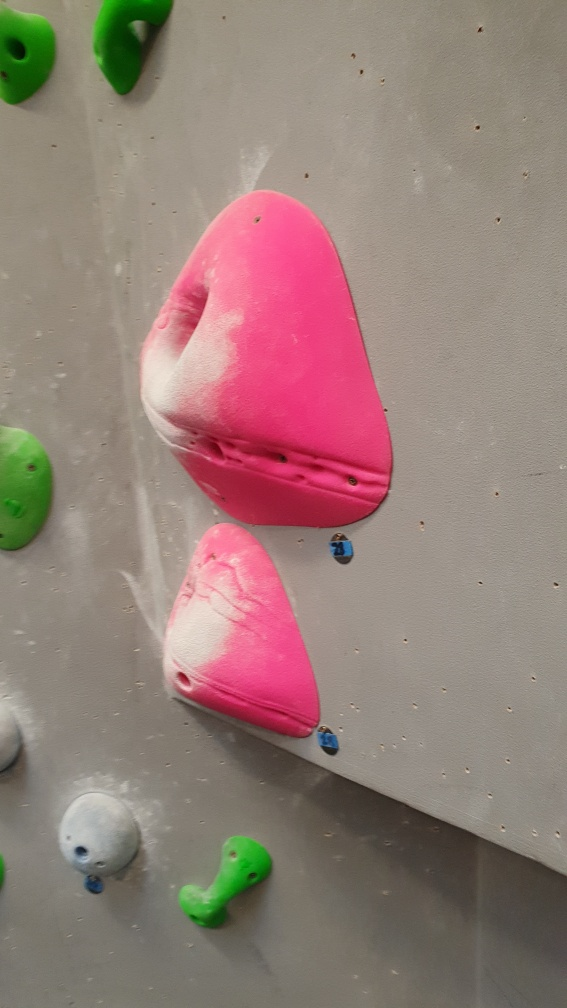Hand Start: (323, 526, 359, 573), (314, 723, 345, 761), (77, 872, 111, 898)
Pocket: (140, 192, 400, 534), (163, 520, 328, 744)
Sloper: (58, 792, 143, 878)
